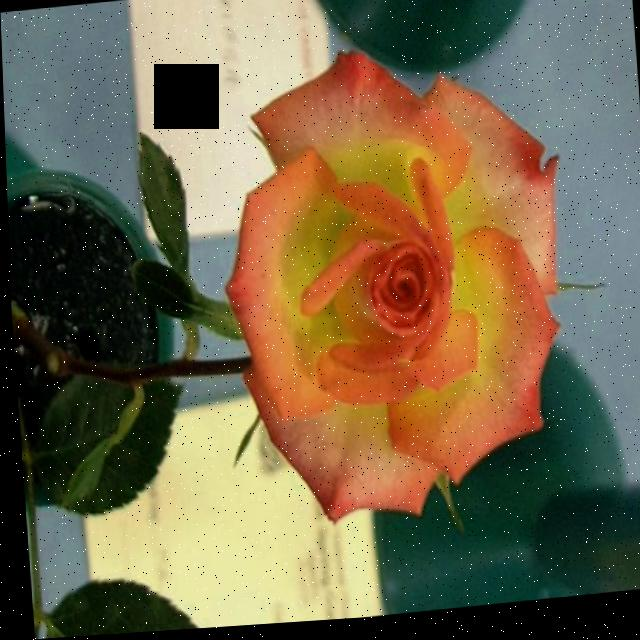rose: (142, 0, 597, 573)
